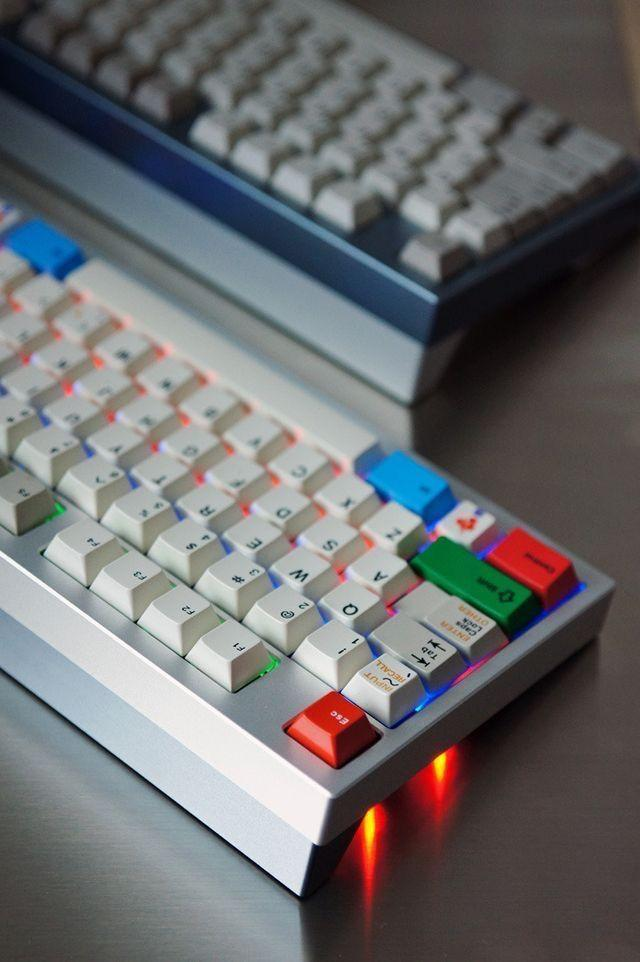keyboard: (0, 184, 622, 910)
